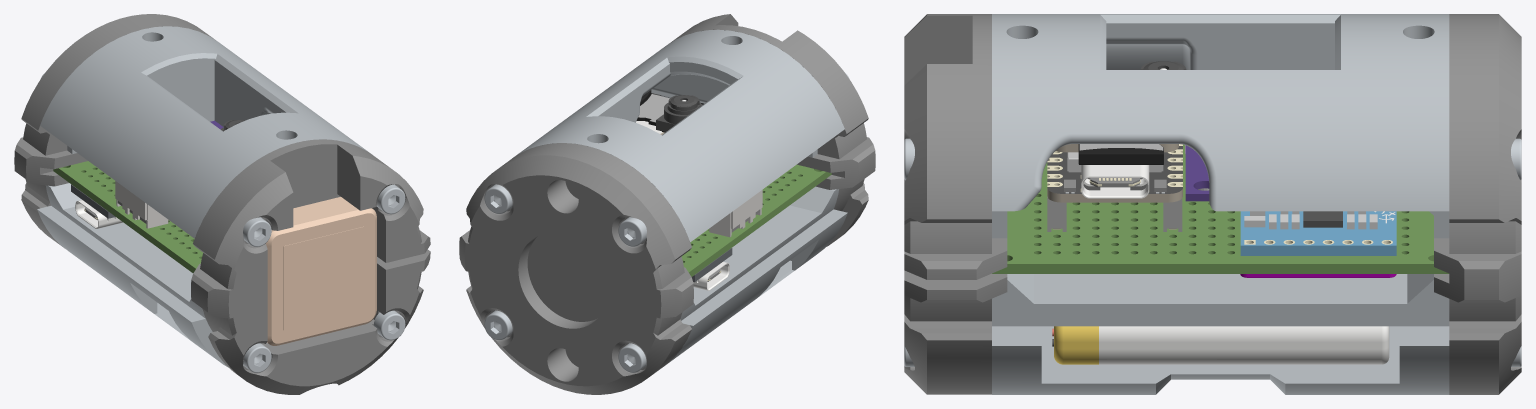
The model's file is AV Bay Assembly 1.glb.
3 renders of one model, left to right at view 1: azimuth 30°, elevation 25°; view 2: azimuth 150°, elevation 25°; view 3: azimuth 270°, elevation 25°, orthographic. The views are drawn at different scales.
Parts seen in each view (by area): view 1: Shield Left, Top, Antenna, Shield Right, Bottom, Perf Board, Hex socket head cap screw M3x0.50 x 12 (×4), Power Switch, CHAMFER9:1__Körper1; view 2: Bottom, Shield Left, Shield Right, Top, Perf Board, Hex socket head cap screw M3x0.50 x 12 (×4), Power Switch, Camer Module:1__Körper3, MicroSD v2:1__Körper1, CHAMFER9:1__Körper1; view 3: Shield Left, Shield Right, Top, Bottom, Perf Board, battery, pcb:1__Body1, Seeed Studio XIAO-ESP32-S3 (Sense):1__PCB (1), MicroSD v2:1__Körper1, CHAMFER9:1__Körper1, overcharging electronics, Body1 (×2) (+3 smaller).
Part boxes in pixels (x1=…): Shield Left: x1=40, y1=26, x2=372, y2=238; Top: x1=191, y1=139, x2=430, y2=394; Antenna: x1=265, y1=197, x2=376, y2=345; Shield Right: x1=37, y1=183, x2=228, y2=367; Bottom: x1=14, y1=14, x2=214, y2=248; Perf Board: x1=53, y1=161, x2=202, y2=272; Hex socket head cap screw M3x0.50 x 12 (×4): x1=243, y1=184, x2=405, y2=372; Power Switch: x1=115, y1=181, x2=168, y2=228; CHAMFER9:1__Körper1: x1=75, y1=200, x2=123, y2=228; Bottom: x1=459, y1=143, x2=693, y2=394; Shield Left: x1=512, y1=29, x2=844, y2=242; Shield Right: x1=669, y1=186, x2=847, y2=362; Top: x1=651, y1=14, x2=875, y2=246; Perf Board: x1=681, y1=164, x2=831, y2=276; Hex socket head cap screw M3x0.50 x 12 (×4): x1=484, y1=184, x2=646, y2=372; Power Switch: x1=709, y1=189, x2=762, y2=237; Camer Module:1__Körper3: x1=656, y1=95, x2=702, y2=131; MicroSD v2:1__Körper1: x1=636, y1=90, x2=669, y2=125; CHAMFER9:1__Körper1: x1=693, y1=261, x2=729, y2=290; Shield Left: x1=992, y1=14, x2=1449, y2=238; Shield Right: x1=992, y1=274, x2=1449, y2=394; Top: x1=904, y1=14, x2=1007, y2=394; Bottom: x1=1434, y1=14, x2=1521, y2=394; Perf Board: x1=992, y1=144, x2=1449, y2=273; battery: x1=1099, y1=326, x2=1389, y2=364; pcb:1__Body1: x1=1240, y1=211, x2=1396, y2=255; Seeed Studio XIAO-ESP32-S3 (Sense):1__PCB (1): x1=1047, y1=144, x2=1182, y2=202; MicroSD v2:1__Körper1: x1=1078, y1=144, x2=1163, y2=164; CHAMFER9:1__Körper1: x1=1081, y1=165, x2=1149, y2=198; overcharging electronics: x1=1054, y1=326, x2=1098, y2=364; Body1 (×2): x1=1047, y1=197, x2=1182, y2=231.
Size of the model in its own units: 0.05 by 0.05 by 0.0811.
